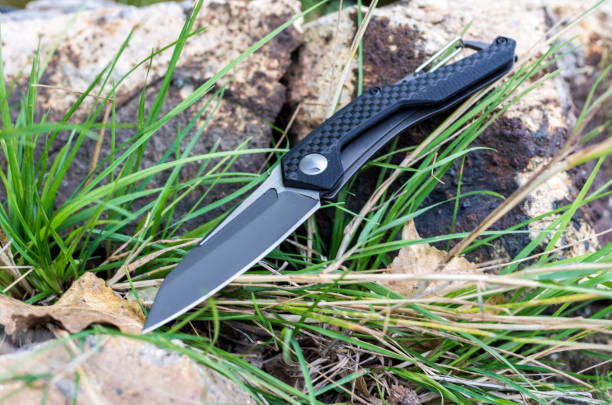knife: (139, 35, 521, 335)
